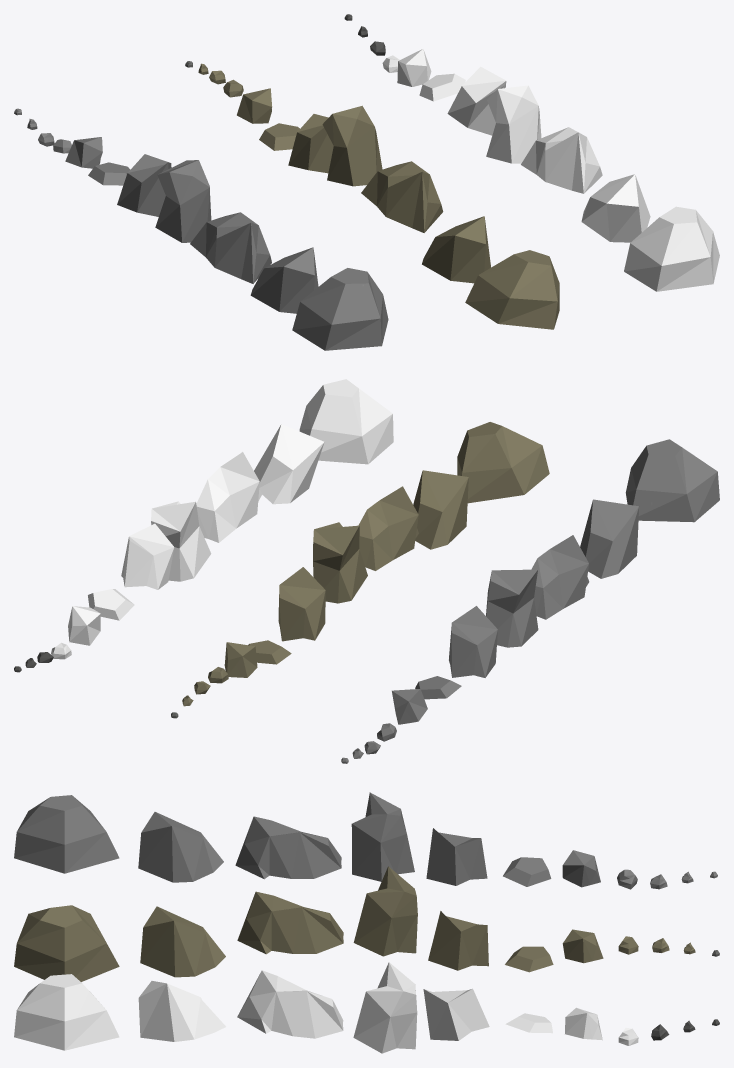
Rendered from rockCollection.fbx.
The picture shows the model from 3 angles, top to bottom: view 1: azimuth 30°, elevation 25°; view 2: azimuth 150°, elevation 25°; view 3: azimuth 270°, elevation 25°; orthographic projection.
Parts seen in each view (by area): view 1: Cylinder010, Cylinder032, Cylinder021, Cylinder015, Cylinder026, Cylinder014, Cylinder004, Cylinder025, Cylinder003, Cylinder002, Cylinder013, Cylinder024 (+9 smaller); view 2: Cylinder032, Cylinder010, Cylinder021, Cylinder004, Cylinder002, Cylinder024, Cylinder015, Cylinder013, Cylinder014, Cylinder025, Cylinder026, Cylinder003 (+9 smaller); view 3: Cylinder021, Cylinder032, Cylinder010, Cylinder026, Cylinder015, Cylinder004, Cylinder013, Cylinder024, Cylinder014, Cylinder003, Cylinder025, Cylinder002 (+9 smaller).
Part boxes in pixels (x1,y1,x2,y2): Cylinder010: [624, 206, 719, 291]; Cylinder032: [292, 268, 388, 350]; Cylinder021: [465, 250, 559, 329]; Cylinder015: [361, 161, 443, 232]; Cylinder026: [190, 212, 271, 283]; Cylinder014: [322, 105, 382, 186]; Cylinder004: [521, 127, 602, 193]; Cylinder025: [155, 160, 211, 242]; Cylinder003: [486, 85, 541, 163]; Cylinder002: [581, 174, 650, 242]; Cylinder013: [422, 216, 490, 283]; Cylinder024: [250, 247, 318, 313]; Cylinder032: [625, 439, 719, 522]; Cylinder010: [299, 379, 393, 464]; Cylinder021: [457, 422, 549, 503]; Cylinder004: [196, 452, 261, 542]; Cylinder002: [254, 424, 324, 504]; Cylinder024: [580, 499, 639, 578]; Cylinder015: [358, 486, 418, 570]; Cylinder013: [413, 470, 468, 549]; Cylinder014: [313, 522, 367, 603]; Cylinder025: [486, 569, 538, 647]; Cylinder026: [531, 535, 589, 619]; Cylinder003: [151, 501, 211, 581]; Cylinder021: [14, 905, 119, 981]; Cylinder032: [14, 795, 119, 873]; Cylinder010: [14, 974, 119, 1050]; Cylinder026: [235, 816, 341, 879]; Cylinder015: [237, 891, 343, 954]; Cylinder004: [237, 970, 343, 1038]; Cylinder013: [140, 906, 225, 977]; Cylinder024: [138, 812, 223, 882]; Cylinder014: [353, 866, 417, 956]; Cylinder003: [353, 962, 417, 1053]; Cylinder025: [351, 792, 414, 881]; Cylinder002: [138, 981, 225, 1041].
Size of the model in its own units: 743 by 159 by 1106.
